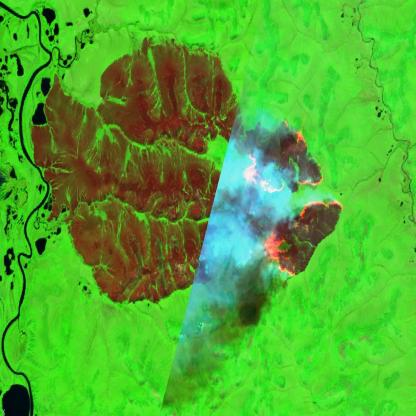fire: (242, 117, 345, 279)
